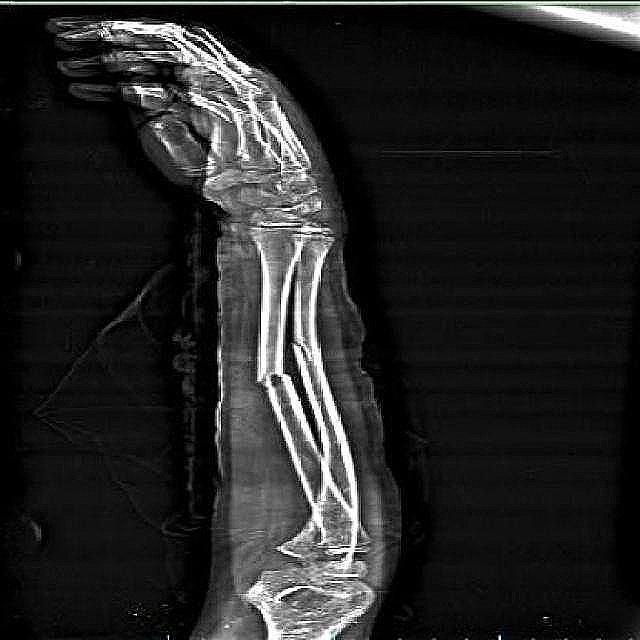bone: (288, 334, 324, 374), (256, 366, 287, 394)
